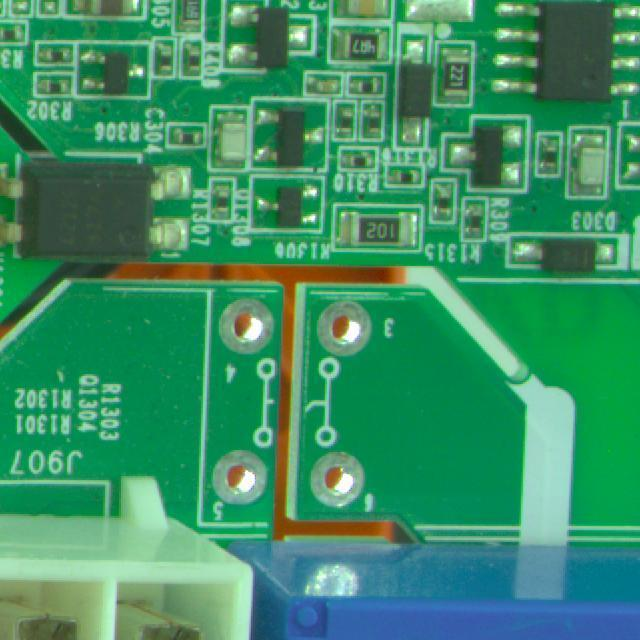Insufficient solder: (205, 441, 267, 510), (311, 294, 373, 360), (305, 447, 366, 509), (215, 295, 274, 359)
